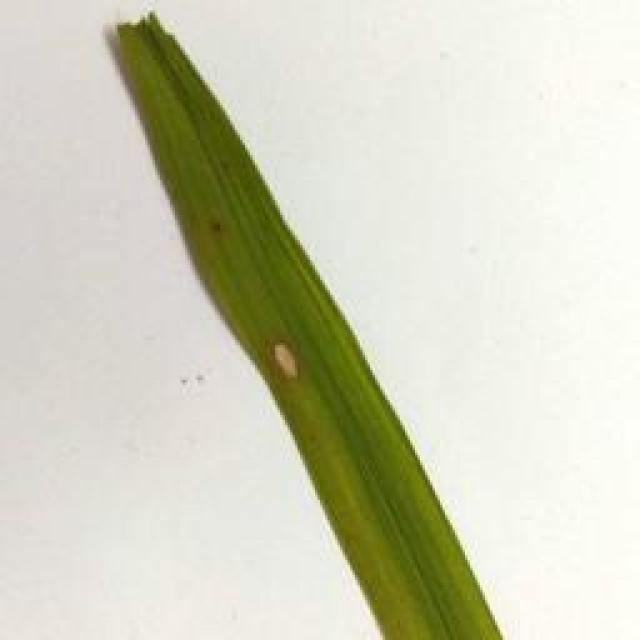Unhealthy: (267, 336, 303, 384), (212, 219, 223, 231)
